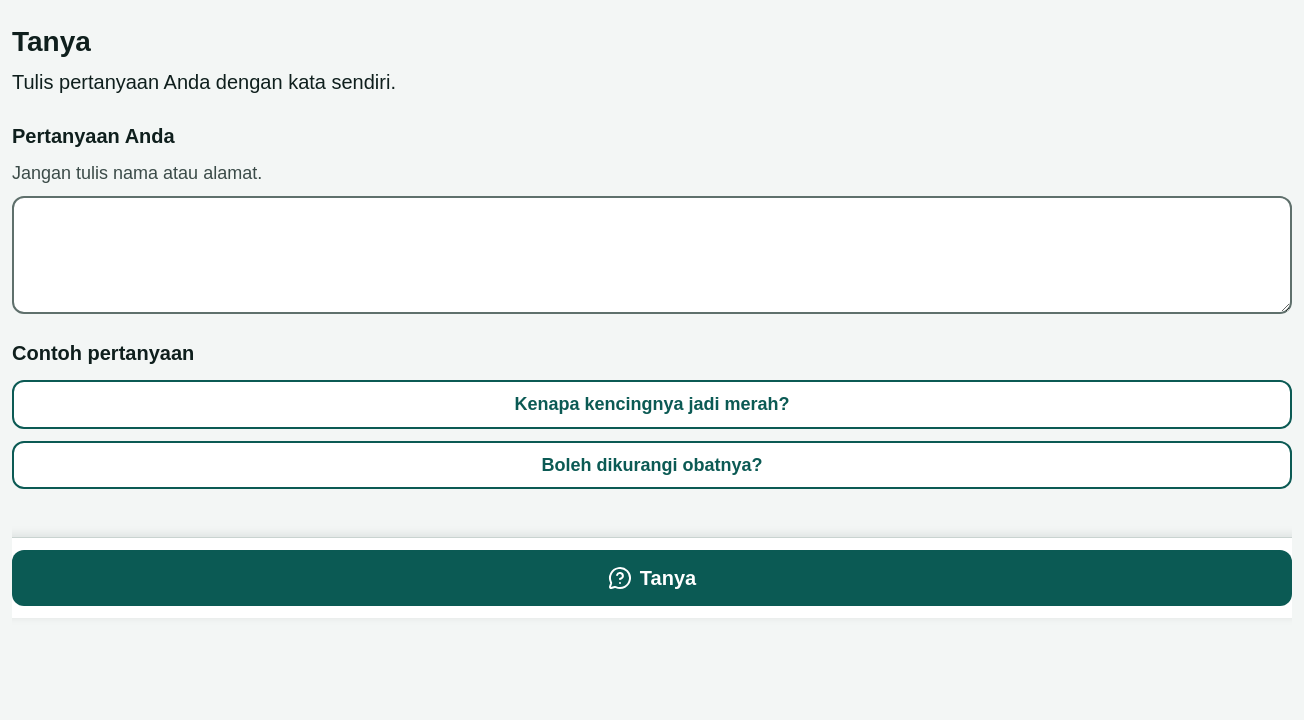
Test case: 'Tanya' mockup › answers the first example with a source and the contact
The image size is (1304, 720).
What coordinates should you click on to do the following:
click the button "Kenapa kencingnya jadi merah?"
I would click on:
 (652, 404)
Its box is [12,380,1292,429].
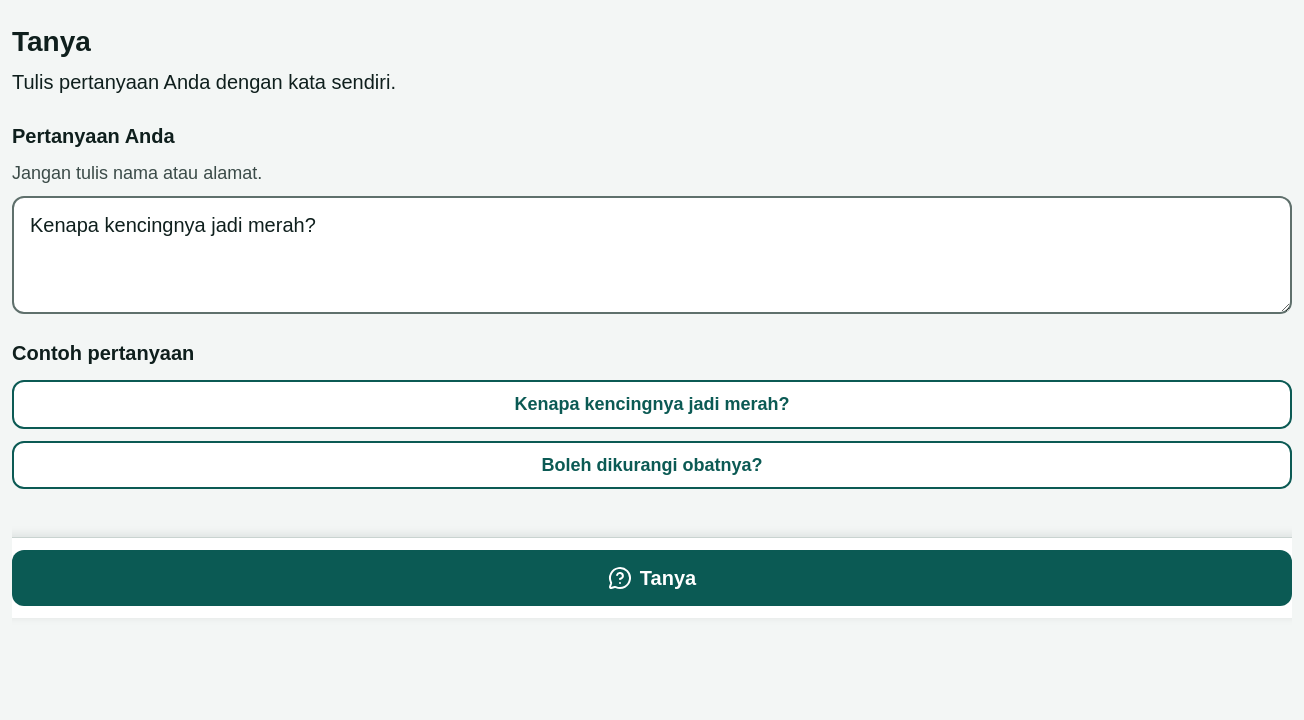
What coordinates should you click on to do the following:
click the button "Tanya"
I would click on:
 (652, 578)
Its box is [12,550,1292,606].
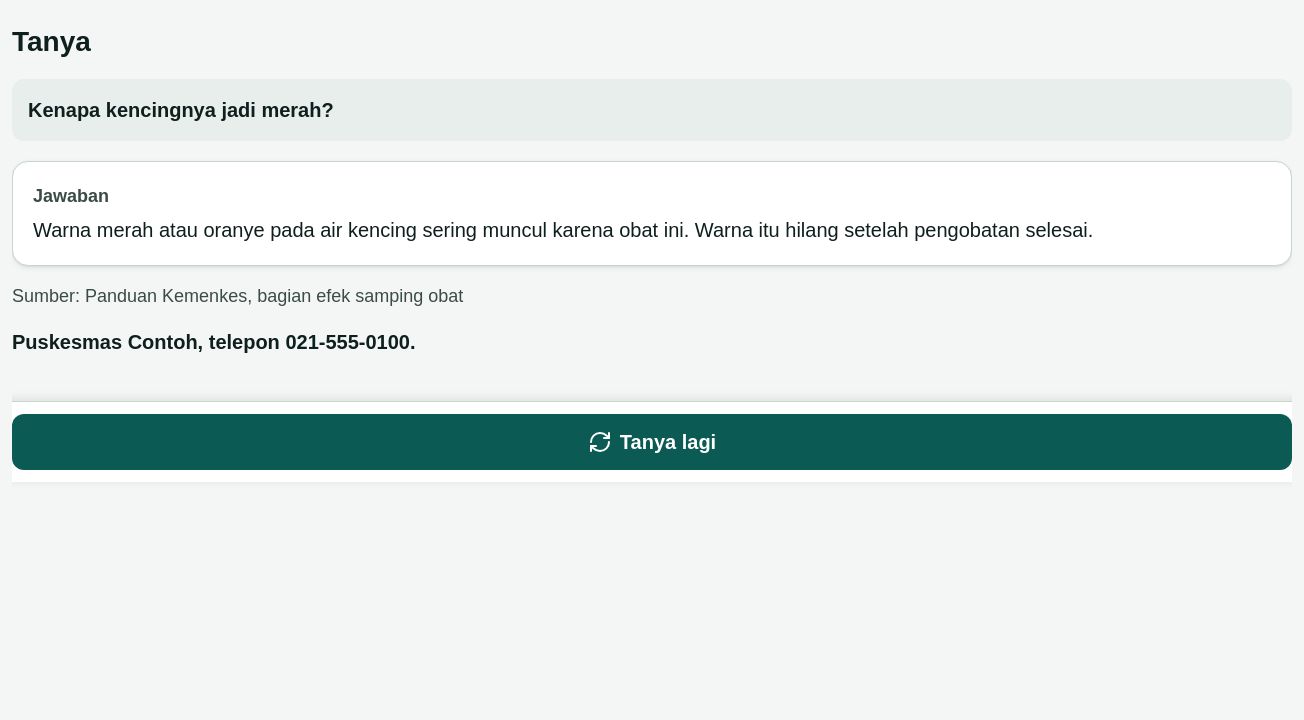
Expected: the text "Warna merah atau oranye pada air kencing sering muncul karena obat ini. Warna itu hilang setelah pengobatan selesai." is shown, [33,219,1093,241]
